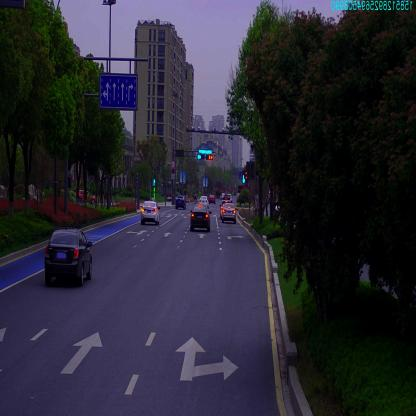traffic-light: (199, 148, 213, 154), (204, 154, 214, 161), (198, 154, 204, 159)
